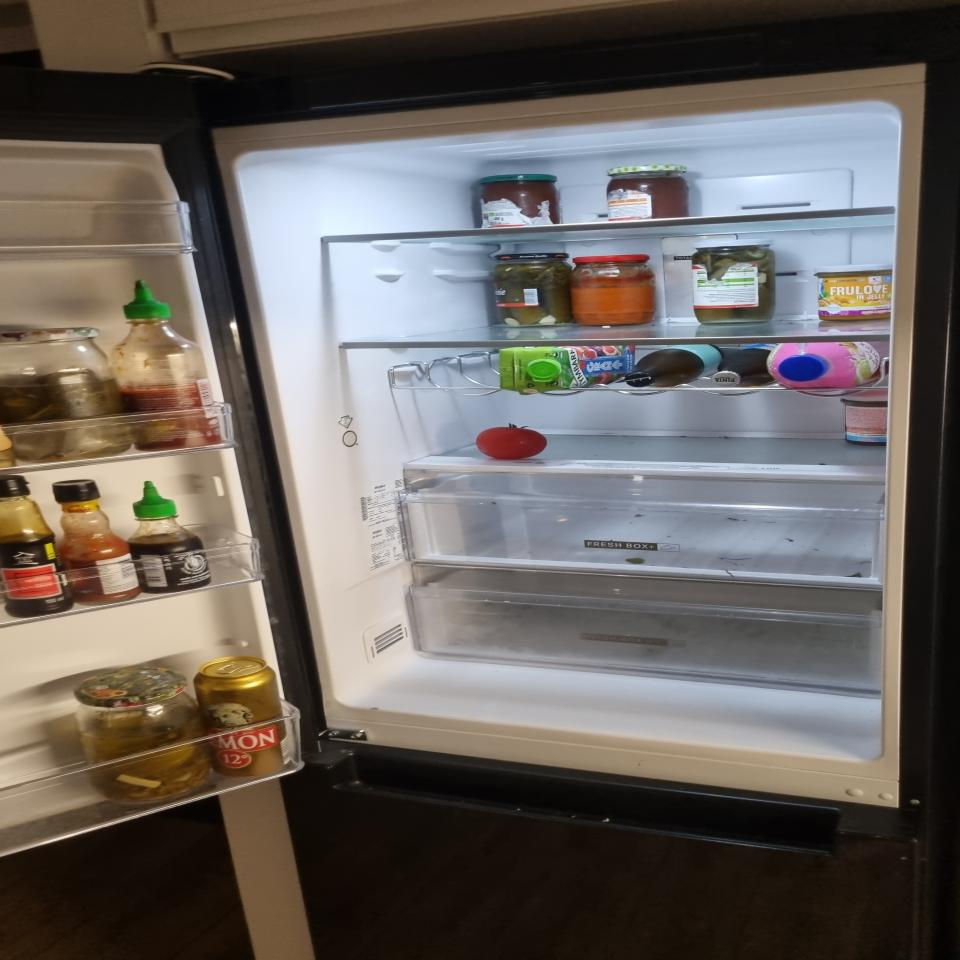Manzana: (476, 423, 548, 460)
